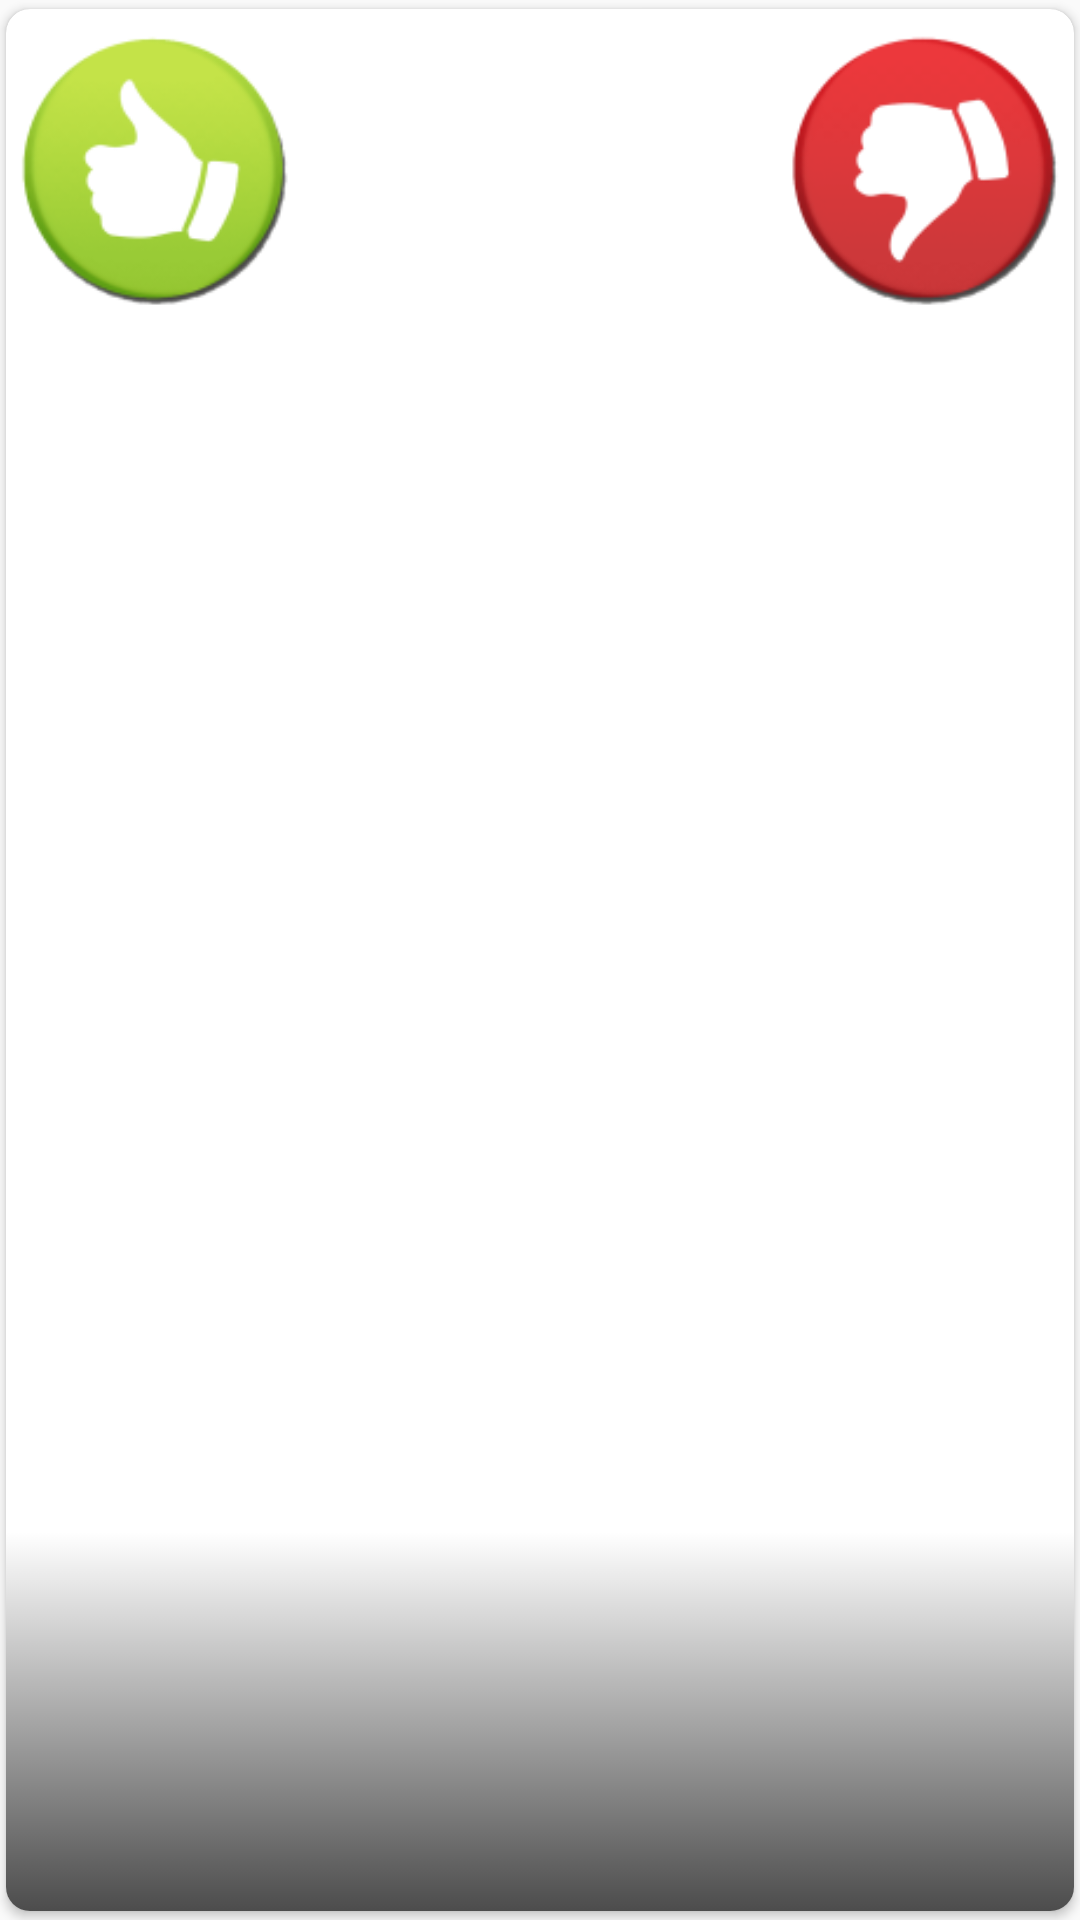

Where to tap for icons on this 1080 × 1920 app screen, as [x,y]:
dislike: [924,171]
like: [154,171]
